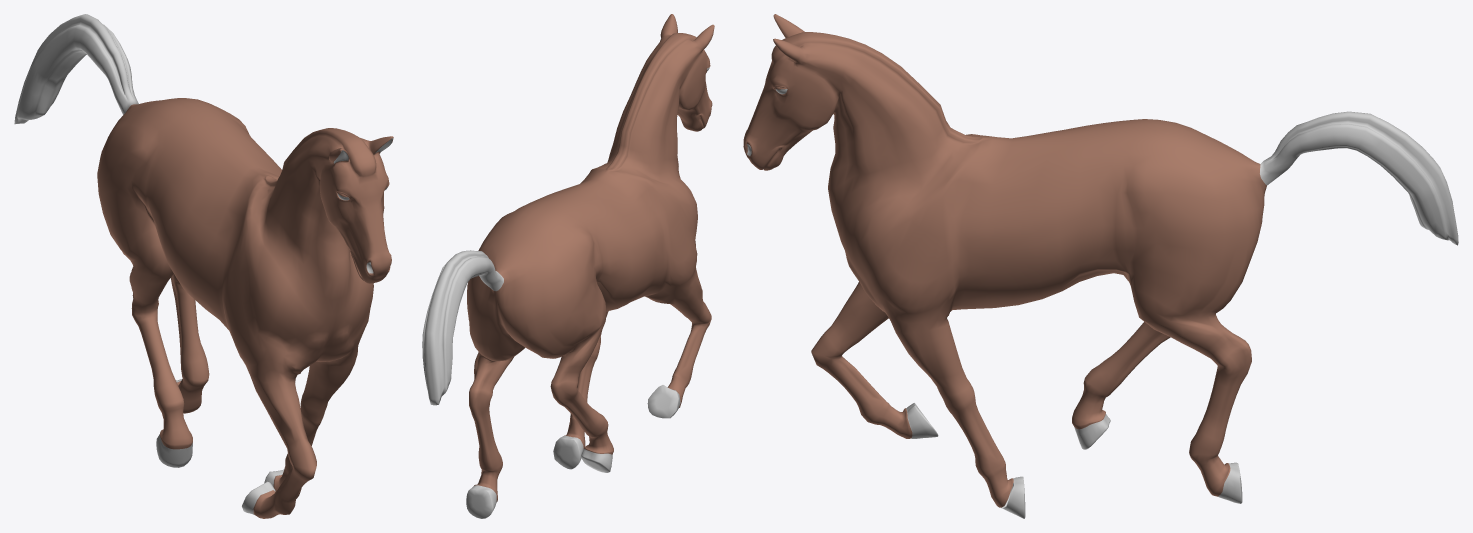
The model's file is horse_obj_16.obj.
3 renders of one model, left to right at view 1: azimuth 30°, elevation 25°; view 2: azimuth 150°, elevation 25°; view 3: azimuth 270°, elevation 25°, orthographic. The views are drawn at different scales.
Visible parts, largest first — view 1: Figure_1; view 2: Figure_1; view 3: Figure_1.
Part boxes in pixels (x1=…): Figure_1: x1=14, y1=14, x2=393, y2=518; Figure_1: x1=422, y1=14, x2=714, y2=518; Figure_1: x1=743, y1=14, x2=1458, y2=518.
Size of the model in its own units: 0.2421 by 0.8097 by 1.1.
